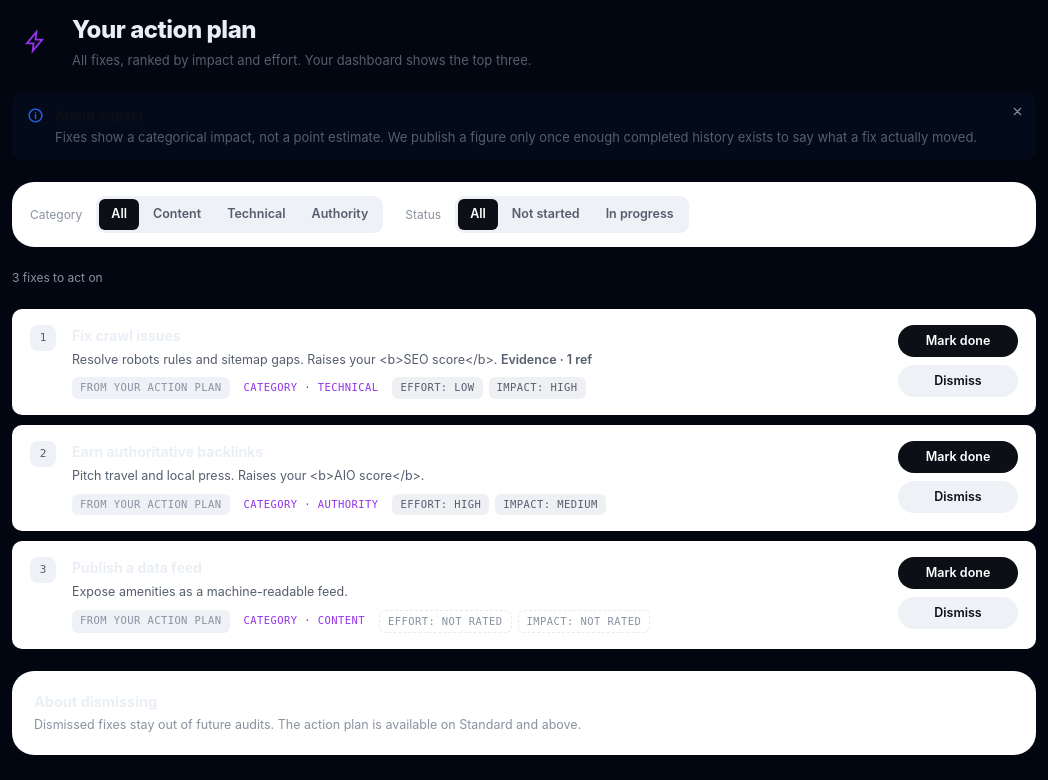
Test case: fixes page › dismisses a deterministic fix with its problem code
Click the button "Dismiss" in the row of "Impact: High" at [958, 381], box x1=898 y1=365 x2=1018 y2=397
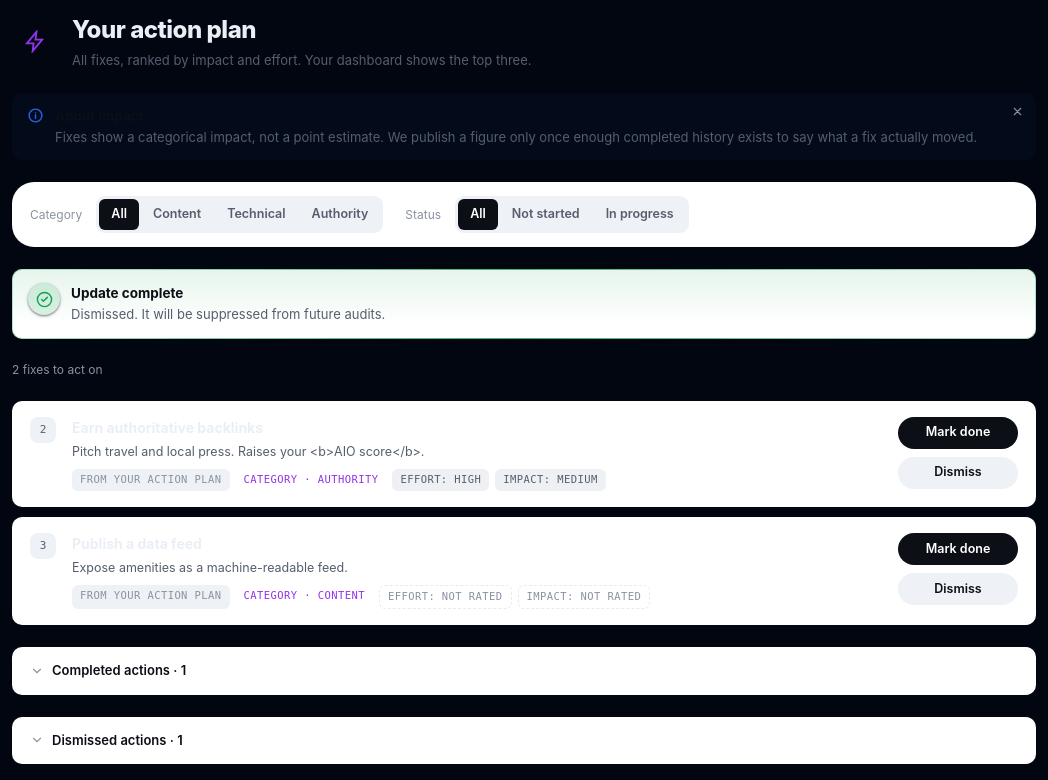
Result: the element with test id "fix-advisor-action-1" is gone
